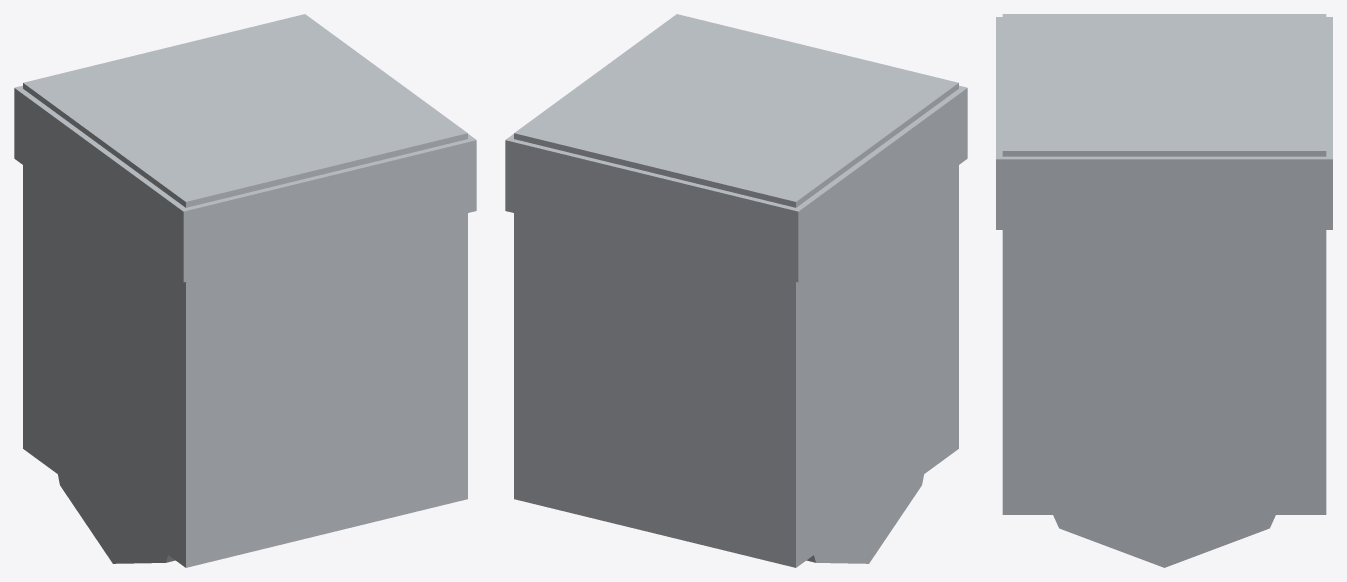
The model's file is npc_crew_upper_arm.fbx.
The picture shows the model from 3 angles, left to right: view 1: azimuth 30°, elevation 25°; view 2: azimuth 150°, elevation 25°; view 3: azimuth 270°, elevation 25°; orthographic projection.
Visible parts, largest first — view 1: npc_crew_upper_arm; view 2: npc_crew_upper_arm; view 3: npc_crew_upper_arm.
Part boxes in pixels (left/top/right/bottom): npc_crew_upper_arm: left=14, top=14, right=476, bottom=567; npc_crew_upper_arm: left=505, top=14, right=967, bottom=567; npc_crew_upper_arm: left=996, top=14, right=1332, bottom=567.
Size of the model in its own units: 104 by 144 by 104.
